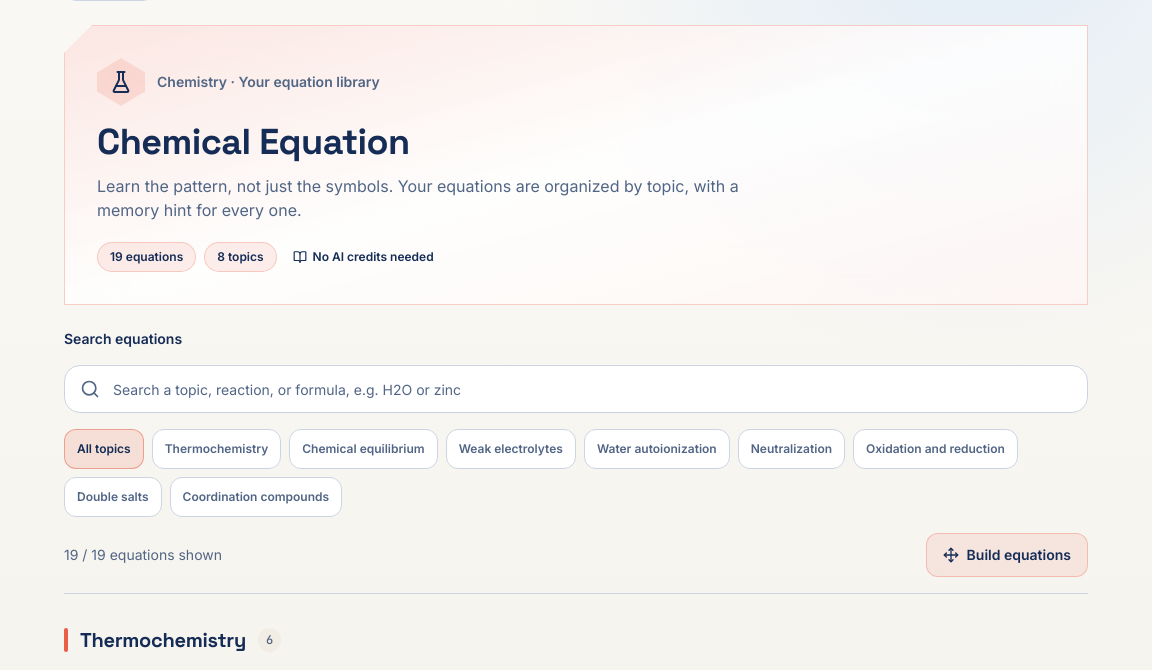
Test: Chemical Equation tool › provides a reset action when there are no matching results
The width and height of the screenshot is (1152, 670).
Click the button "Thermochemistry" at x=216, y=449, box [152,429,281,469]
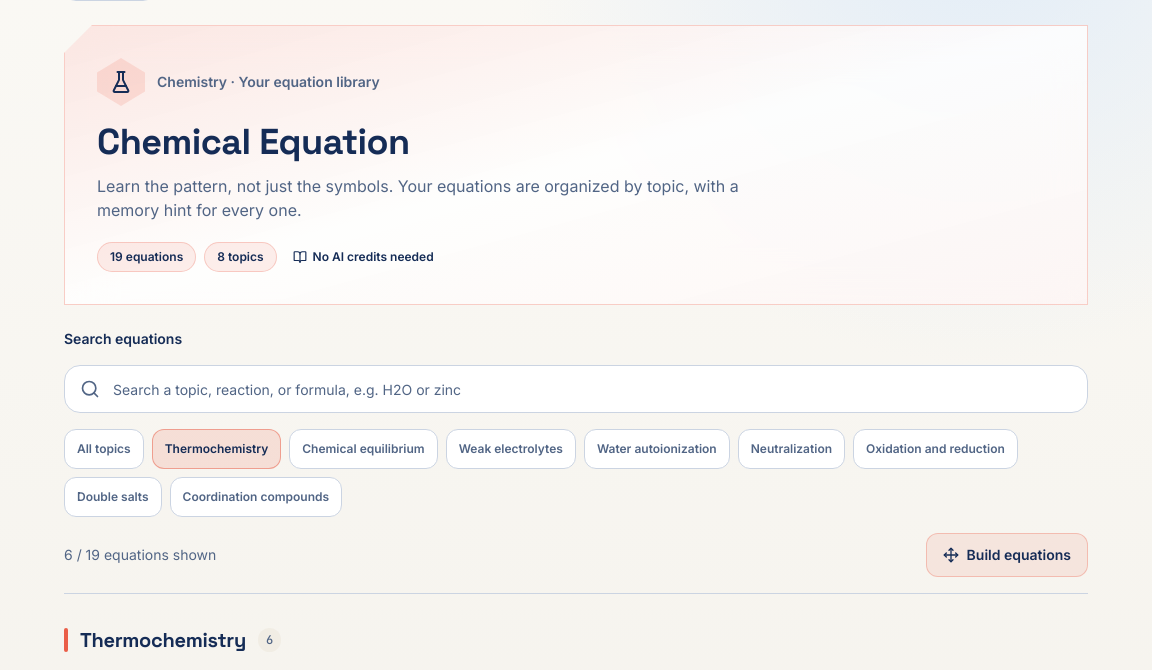
Type "Zn" into the search field at x=576, y=389, box [64,365,1088,413]
(page scrolled)
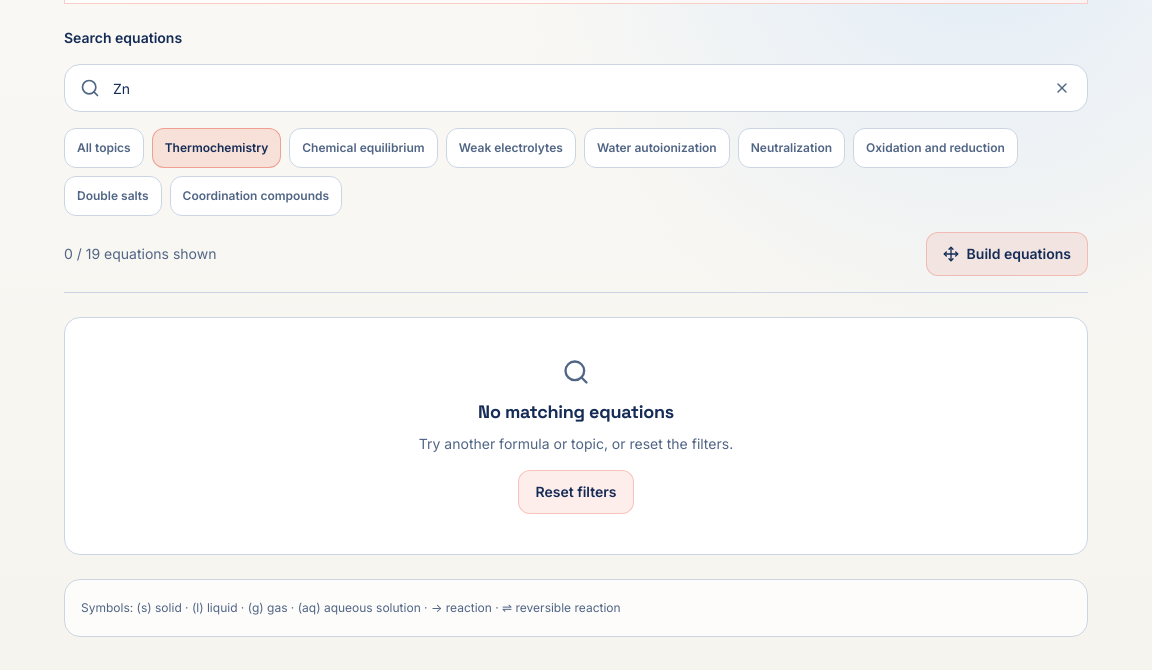
Expected: the heading "No matching equations" is shown, [478,400,674,423]
Click the button "Reset filters" at x=576, y=492, box [518,470,634,514]
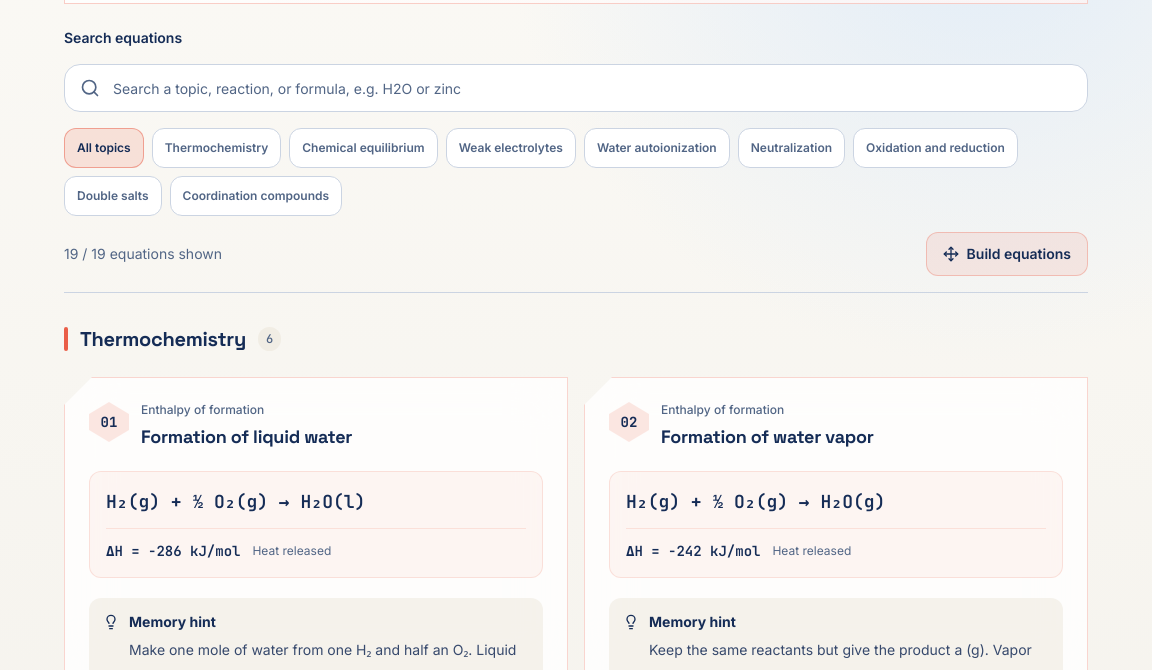
Expected: the search field is empty, [64,64,1088,112]
